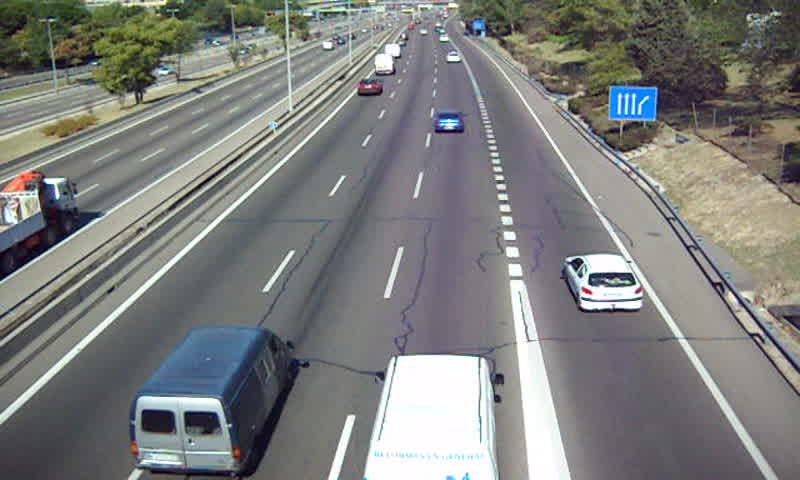car: (564, 253, 645, 314), (432, 109, 467, 134), (355, 78, 382, 97)
van: (131, 327, 294, 476), (365, 355, 498, 480), (373, 53, 396, 74)
